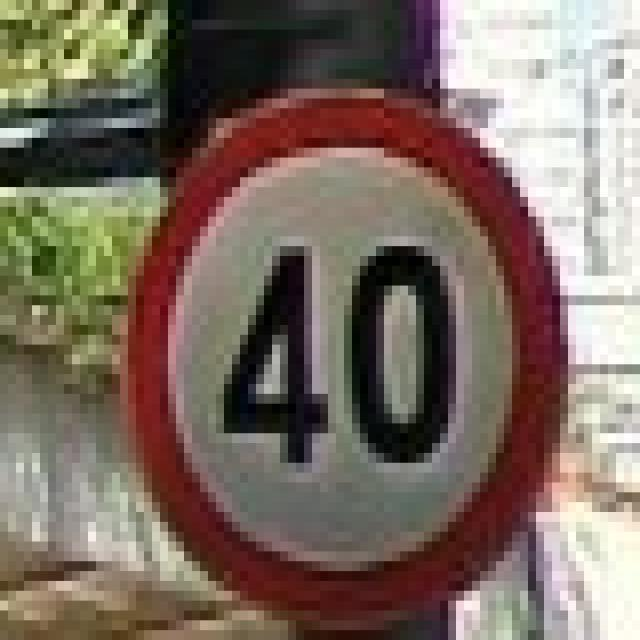Speed Limit -40-: (215, 236, 474, 478)
